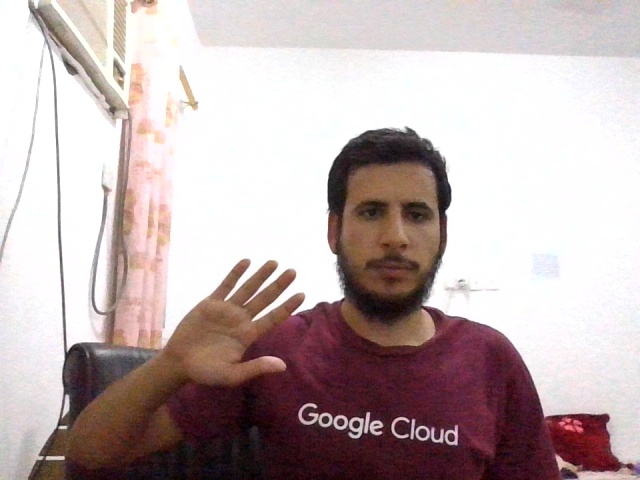Five: (167, 258, 305, 385)
